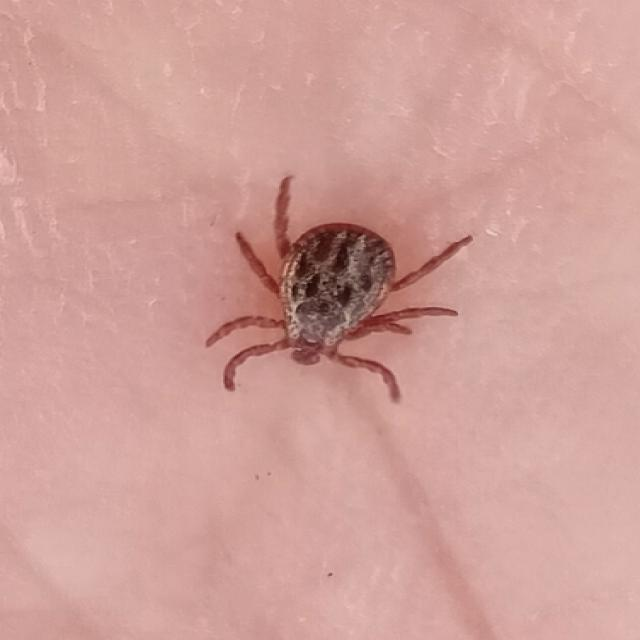Dermacentor Reticulatus-M: (204, 174, 471, 403)
